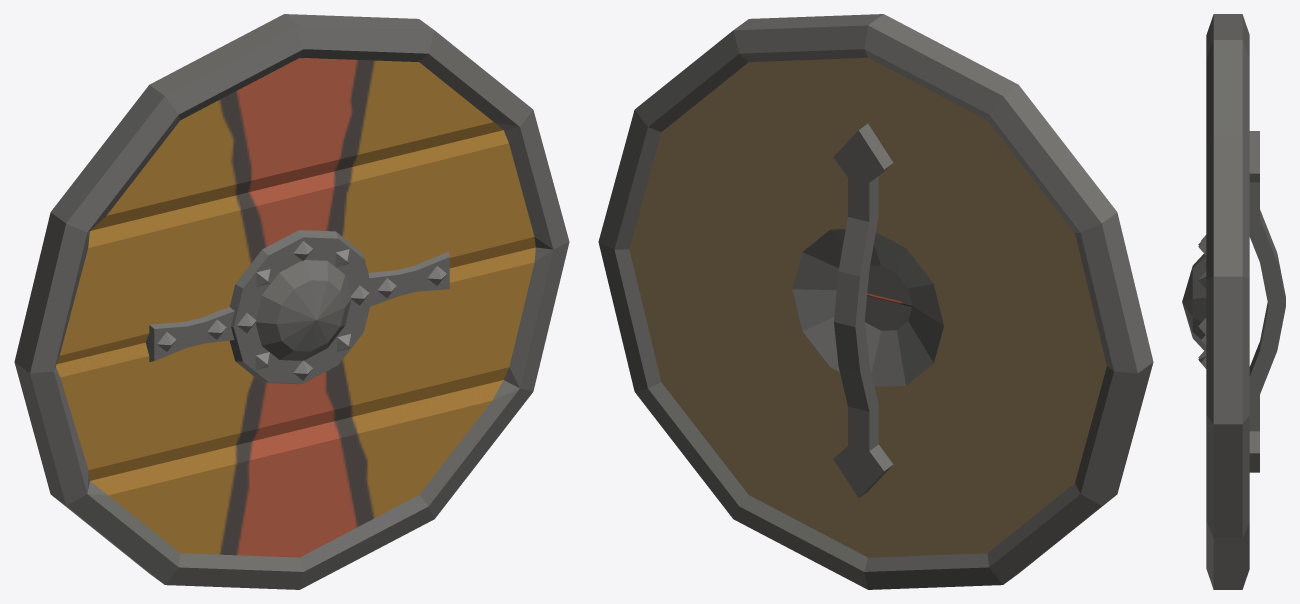
The model's file is SM_pwe_slavic_shield_03o.fbx.
3 renders of one model, left to right at view 1: azimuth 30°, elevation 25°; view 2: azimuth 150°, elevation 25°; view 3: azimuth 270°, elevation 25°, orthographic. The views are drawn at different scales.
Parts seen in each view (by area): view 1: SM_pwe_slavic_shield_03o; view 2: SM_pwe_slavic_shield_03o; view 3: SM_pwe_slavic_shield_03o.
Part boxes in pixels (x1,y1,x2,y2): SM_pwe_slavic_shield_03o: (14,14,569,589); SM_pwe_slavic_shield_03o: (598,14,1153,589); SM_pwe_slavic_shield_03o: (1182,14,1285,589).
Bounding box in the file's own units: 70.52 × 70.52 × 12.67.
